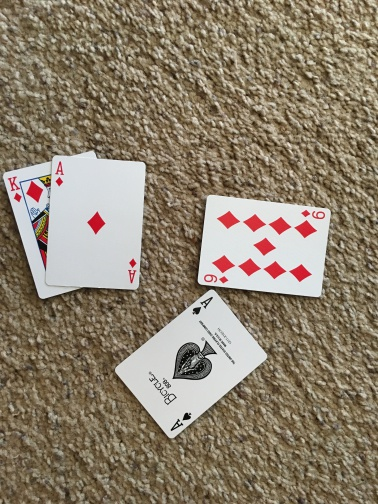ace: (120, 288, 267, 437), (48, 155, 143, 290)
king: (4, 164, 52, 293)
nine: (196, 193, 332, 297)
